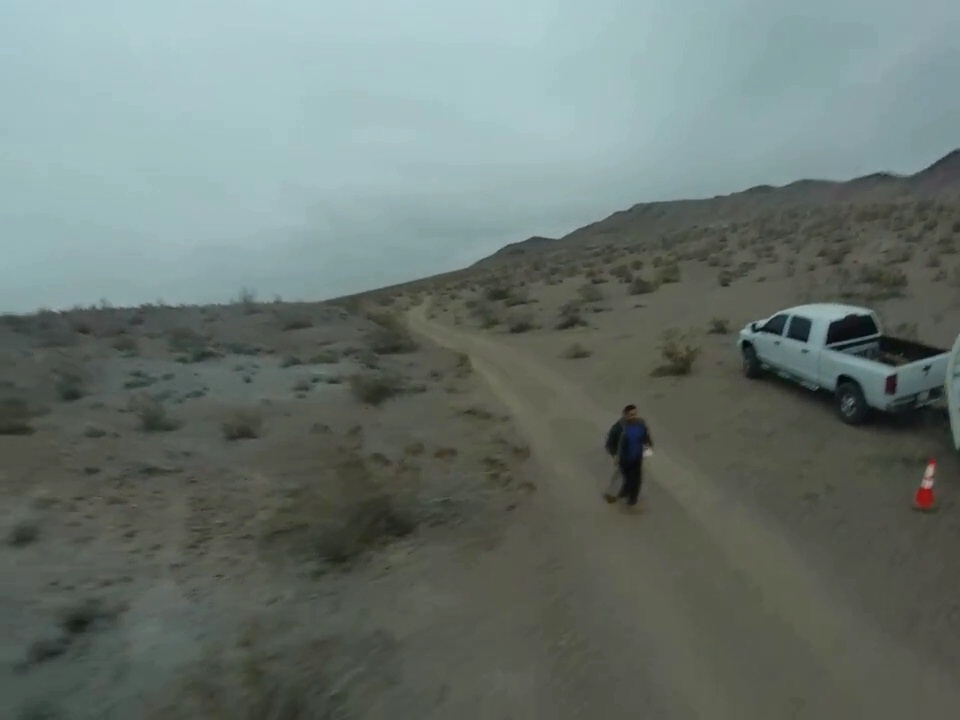insan: (602, 401, 656, 509)
kamyonet: (740, 301, 954, 424)
